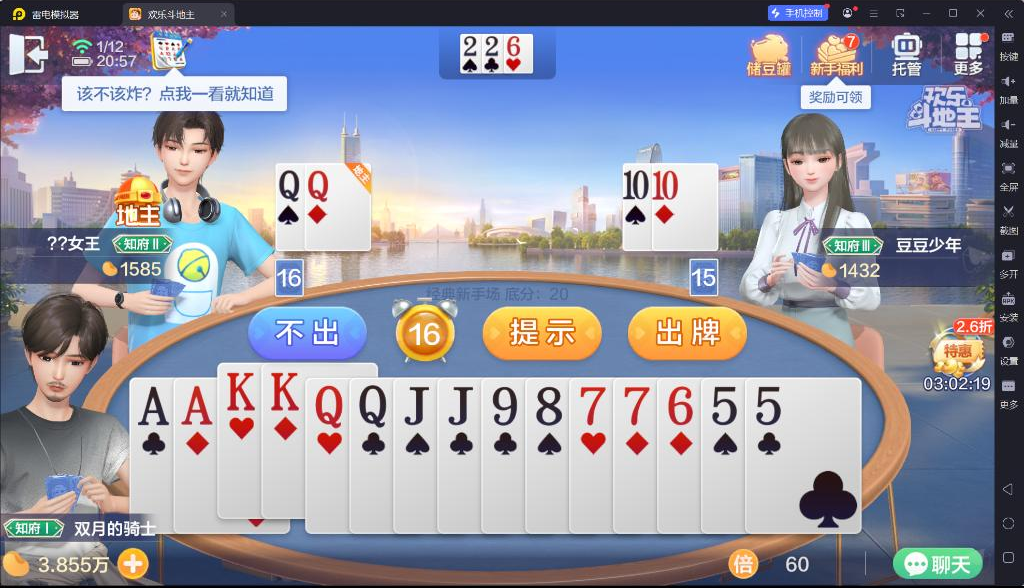A: (134, 384, 172, 430), (177, 382, 214, 428)
J: (443, 383, 475, 428), (401, 383, 431, 427)
K: (268, 368, 301, 414), (224, 370, 256, 414)
Q: (354, 382, 389, 429), (314, 383, 344, 431), (277, 167, 301, 203), (307, 167, 330, 204)
eight: (532, 382, 564, 429)
five: (707, 381, 741, 427), (752, 381, 784, 427)
nine: (486, 382, 520, 430)
seven: (618, 381, 652, 429), (576, 381, 608, 427)
six: (662, 380, 696, 428), (505, 35, 522, 57)
ten: (623, 168, 650, 203), (652, 166, 678, 202)
two: (461, 34, 479, 58), (483, 35, 501, 57)
